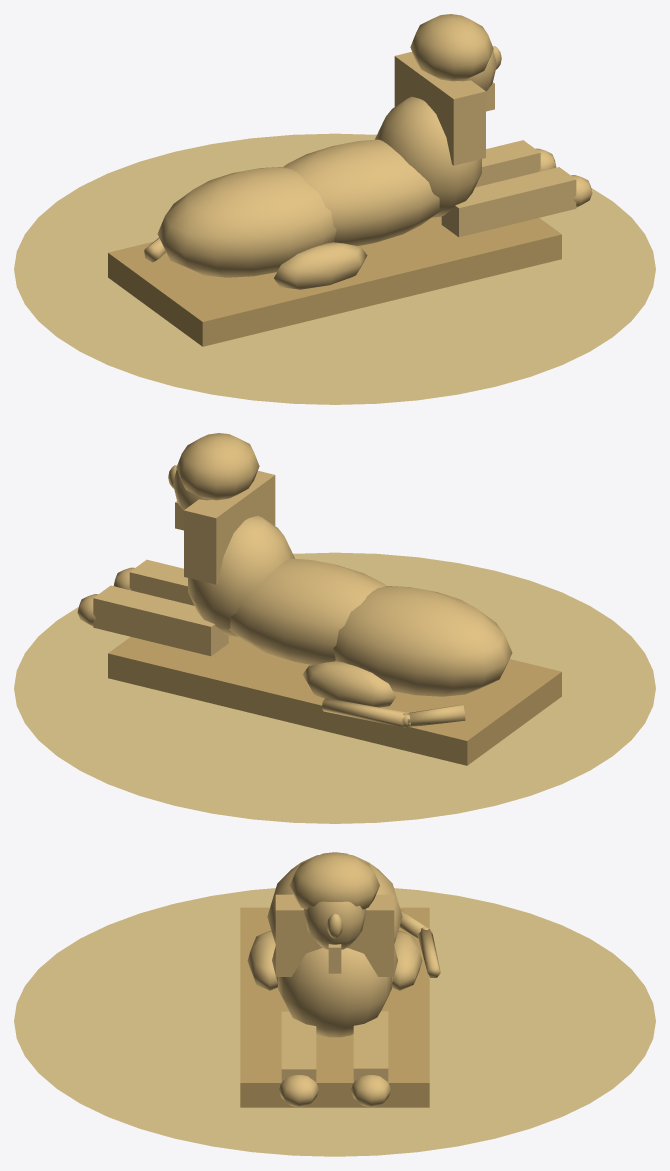
Rendered from improvement_sphinx.fbx.
3 renders of one model, top to bottom at view 1: azimuth 30°, elevation 25°; view 2: azimuth 150°, elevation 25°; view 3: azimuth 270°, elevation 25°, orthographic.
Visible parts, largest first — view 1: improvement_sphinx_sg#e0c88a_00, improvement_sphinx_sphinx_02, improvement_sphinx_sphplinth_01, improvement_sphinx_nemes_03; view 2: improvement_sphinx_sg#e0c88a_00, improvement_sphinx_sphinx_02, improvement_sphinx_sphplinth_01, improvement_sphinx_nemes_03; view 3: improvement_sphinx_sg#e0c88a_00, improvement_sphinx_sphinx_02, improvement_sphinx_sphplinth_01, improvement_sphinx_nemes_03.
Boxes of the visible parts, x1=… form: improvement_sphinx_sg#e0c88a_00: x1=14, y1=133, x2=655, y2=404; improvement_sphinx_sphinx_02: x1=144, y1=46, x2=592, y2=289; improvement_sphinx_sphplinth_01: x1=108, y1=216, x2=561, y2=346; improvement_sphinx_nemes_03: x1=394, y1=14, x2=493, y2=165; improvement_sphinx_sg#e0c88a_00: x1=14, y1=552, x2=655, y2=823; improvement_sphinx_sphinx_02: x1=77, y1=465, x2=512, y2=727; improvement_sphinx_sphplinth_01: x1=108, y1=635, x2=561, y2=765; improvement_sphinx_nemes_03: x1=176, y1=433, x2=275, y2=584; improvement_sphinx_sg#e0c88a_00: x1=14, y1=888, x2=655, y2=1156; improvement_sphinx_sphinx_02: x1=247, y1=855, x2=440, y2=1107; improvement_sphinx_sphplinth_01: x1=240, y1=907, x2=429, y2=1107; improvement_sphinx_nemes_03: x1=275, y1=852, x2=394, y2=976.
Bounding box in the file's own units: 142 × 54.2 × 142.
